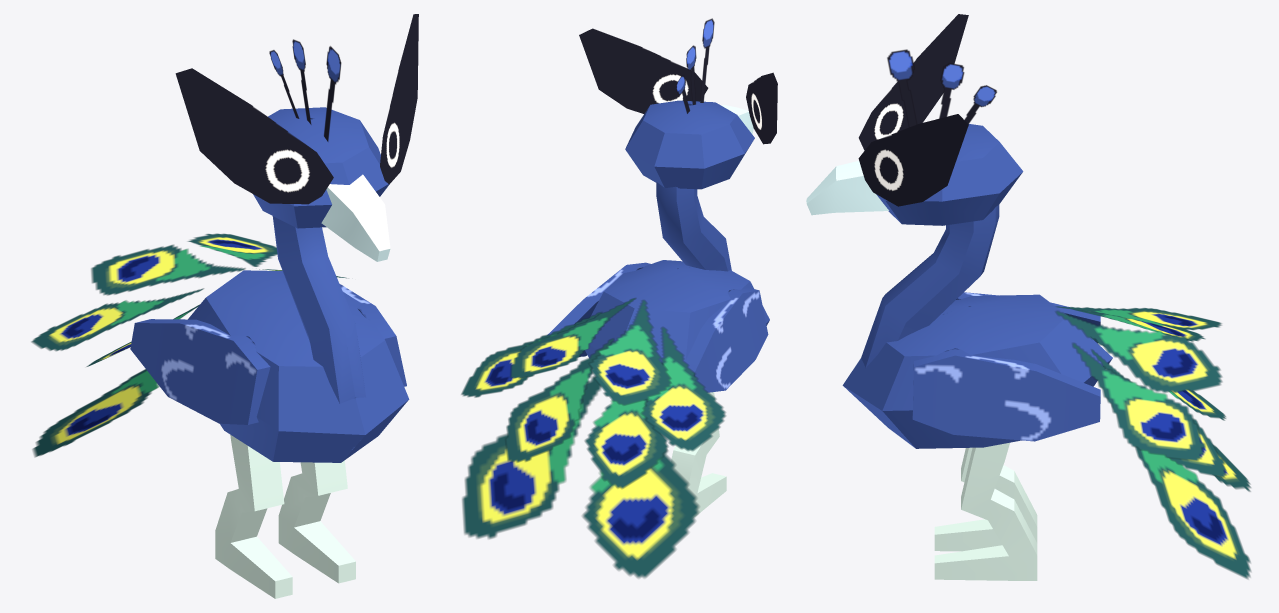
Rendered from pavo_placeholder.gltf.
3 renders of one model, left to right at view 1: azimuth 30°, elevation 25°; view 2: azimuth 150°, elevation 25°; view 3: azimuth 270°, elevation 25°, orthographic. The views are drawn at different scales.
Visible parts, largest first — view 1: Pavo_placeholder; view 2: Pavo_placeholder; view 3: Pavo_placeholder.
Part boxes in pixels (box(x1,y1,x2,y2)): Pavo_placeholder: box(31, 14, 418, 598); Pavo_placeholder: box(461, 18, 777, 578); Pavo_placeholder: box(806, 14, 1251, 580).
Bounding box in the file's own units: 1.28 × 2.09 × 1.68.
1 material, 1 textured.
